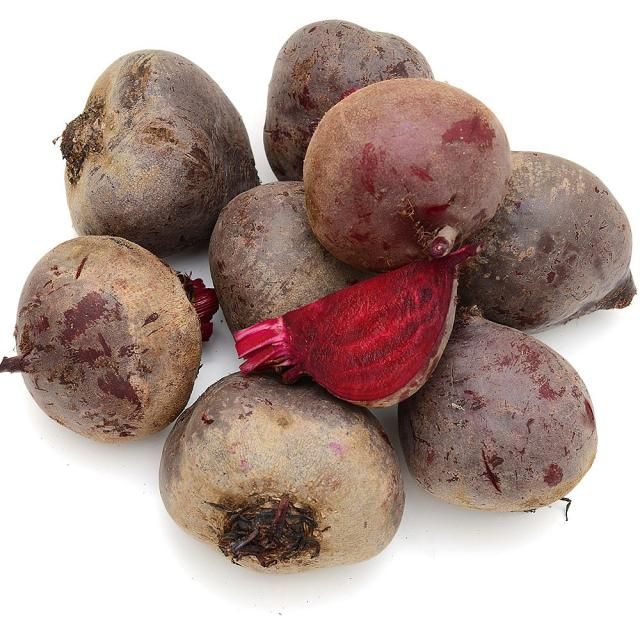Beetroot: (152, 344, 411, 586), (378, 301, 624, 523), (213, 211, 480, 411), (291, 64, 531, 277), (424, 136, 640, 344), (21, 229, 203, 446), (61, 62, 264, 252)
